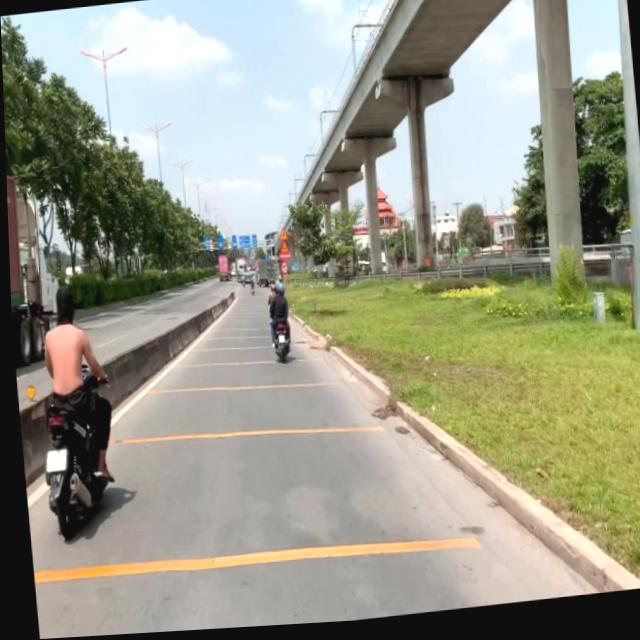Cam re phai: (277, 264, 286, 279)
Di cham: (277, 243, 287, 256)
